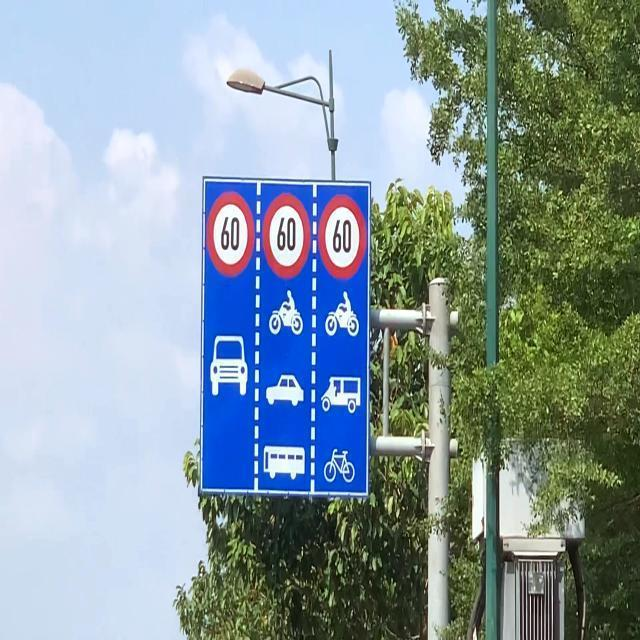127-toc-do-toi-da-60: (264, 192, 310, 276), (208, 192, 252, 276), (322, 196, 362, 274)
